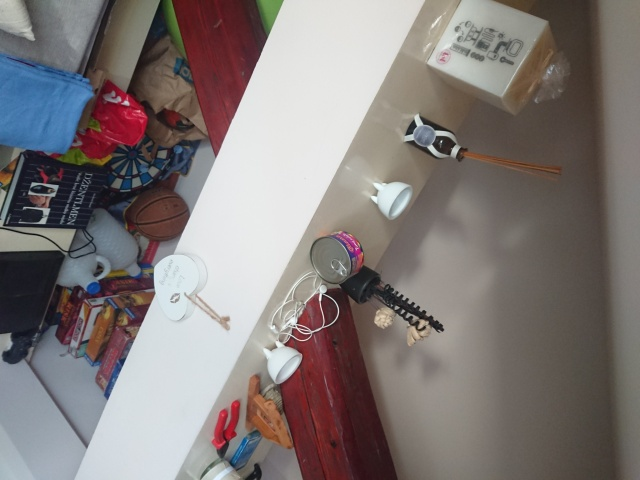Giana Tuna Salad Mexico 185g: (308, 229, 367, 286)
